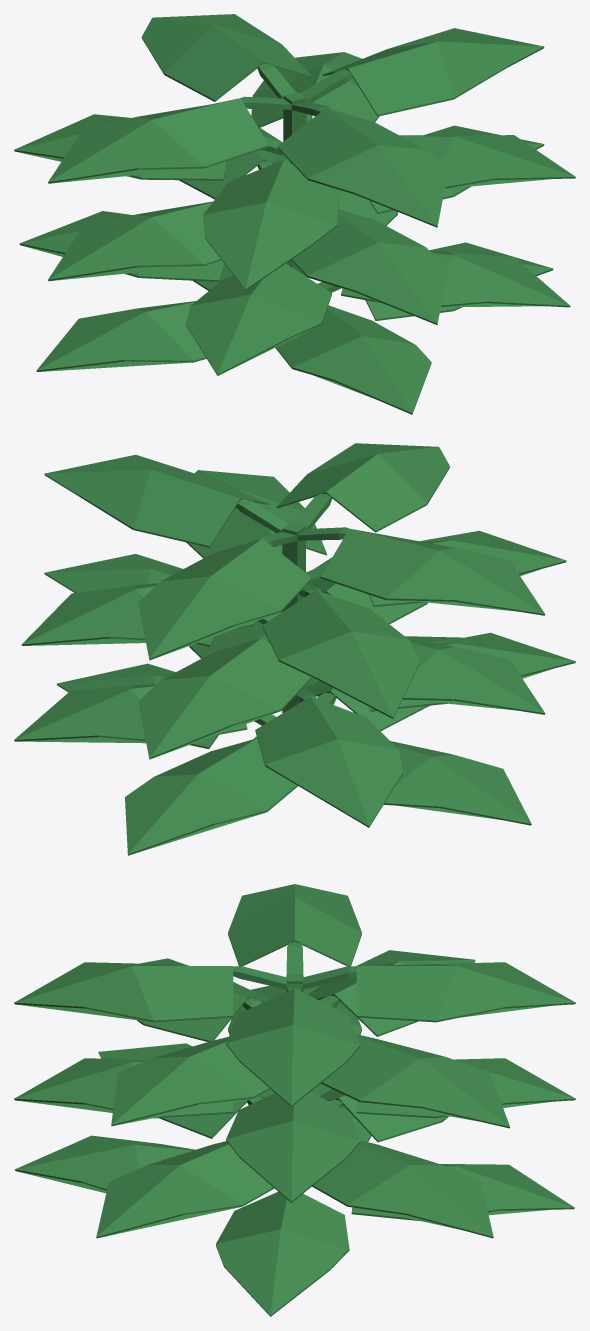
Rendered from Plant_05.fbx.
3 renders of one model, top to bottom at view 1: azimuth 30°, elevation 25°; view 2: azimuth 150°, elevation 25°; view 3: azimuth 270°, elevation 25°, orthographic. The views are drawn at different scales.
Visible parts, largest first — view 1: Plant_05; view 2: Plant_05; view 3: Plant_05.
Part boxes in pixels (x1,y1,x2,y2): Plant_05: [14, 14, 575, 414]; Plant_05: [14, 443, 575, 855]; Plant_05: [14, 884, 575, 1316].
Size of the model in its own units: 628 by 324 by 628.
